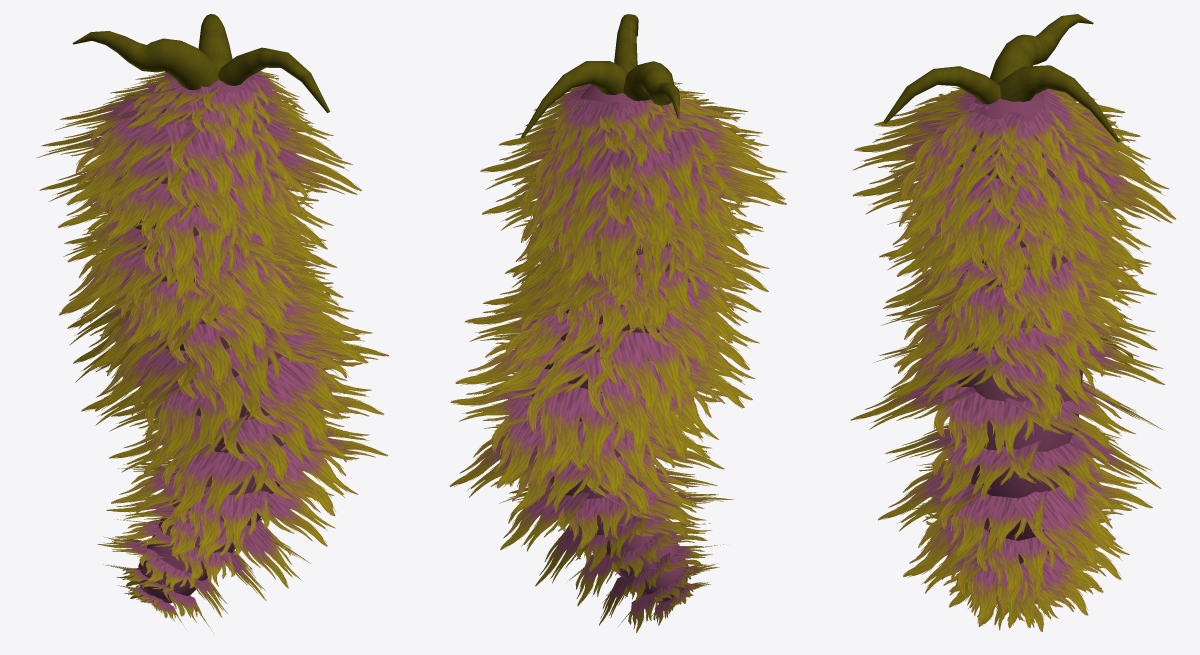
The model's file is CarrotModel.fbx.
The picture shows the model from 3 angles, left to right: view 1: azimuth 30°, elevation 25°; view 2: azimuth 150°, elevation 25°; view 3: azimuth 270°, elevation 25°; orthographic projection. The views are drawn at different scales.
Visible parts, largest first — view 1: staengel, Plane.075, Plane.039, Plane.045, Plane.087, Plane.070, Plane.076, body, Plane.046, Plane.086, Plane.081, Plane.040 (+53 smaller); view 2: staengel, Plane.073, Plane.061, Plane.067, Plane.047, Plane.043, Plane.037, Plane.041, Plane.079, body, Plane.031, Plane.066 (+55 smaller); view 3: staengel, body, Plane.074, Plane.085, Plane.038, Plane.036, Plane.084, Plane.068, Plane.013, Plane.032, Plane.080, Plane.062 (+49 smaller).
Boxes of the visible parts, <box> form: staengel: <box>72,14,330,112</box>; Plane.075: <box>235,350,357,441</box>; Plane.039: <box>161,140,292,236</box>; Plane.045: <box>163,113,281,199</box>; Plane.087: <box>162,440,270,518</box>; Plane.070: <box>173,324,295,423</box>; Plane.076: <box>145,374,260,460</box>; body: <box>134,76,294,603</box>; Plane.046: <box>81,101,204,177</box>; Plane.086: <box>243,423,358,515</box>; Plane.081: <box>220,393,327,481</box>; Plane.040: <box>66,140,191,211</box>; staengel: <box>521,14,679,138</box>; Plane.073: <box>526,369,641,472</box>; Plane.061: <box>595,323,702,415</box>; Plane.067: <box>581,352,695,453</box>; Plane.047: <box>609,123,716,214</box>; Plane.043: <box>533,139,636,221</box>; Plane.037: <box>519,164,635,258</box>; Plane.041: <box>605,155,728,250</box>; Plane.079: <box>490,398,585,493</box>; body: <box>532,85,690,602</box>; Plane.031: <box>548,204,656,289</box>; Plane.066: <box>496,327,615,404</box>; staengel: <box>883,14,1120,142</box>; body: <box>957,92,1082,563</box>; Plane.074: <box>933,387,1050,464</box>; Plane.085: <box>1011,472,1122,570</box>; Plane.038: <box>898,149,1020,243</box>; Plane.036: <box>983,156,1112,250</box>; Plane.084: <box>938,484,1047,557</box>; Plane.068: <box>981,341,1106,419</box>; Plane.013: <box>1000,259,1099,338</box>; Plane.032: <box>928,196,1043,272</box>; Plane.080: <box>931,432,1041,501</box>; Plane.062: <box>994,315,1099,388</box>.
Size of the model in its own units: 138 by 233 by 126.
